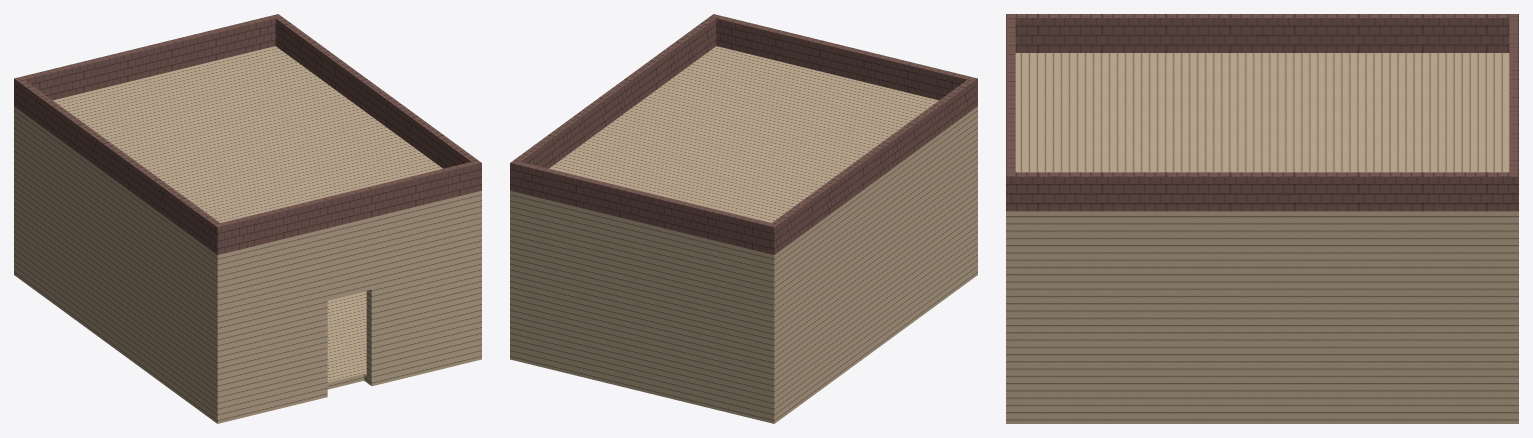
The model's file is marina_harbormaster_office.glb.
3 renders of one model, left to right at view 1: azimuth 30°, elevation 25°; view 2: azimuth 150°, elevation 25°; view 3: azimuth 270°, elevation 25°, orthographic. The views are drawn at different scales.
Parts seen in each view (by area): view 1: marina_harbormaster_office-col; view 2: marina_harbormaster_office-col; view 3: marina_harbormaster_office-col.
Part boxes in pixels (<box>): marina_harbormaster_office-col: <box>14,14,481,423</box>; marina_harbormaster_office-col: <box>510,14,977,423</box>; marina_harbormaster_office-col: <box>1006,14,1518,423</box>.
Size of the model in its own units: 6 by 4.26 by 8.
2 materials, 2 textured.
